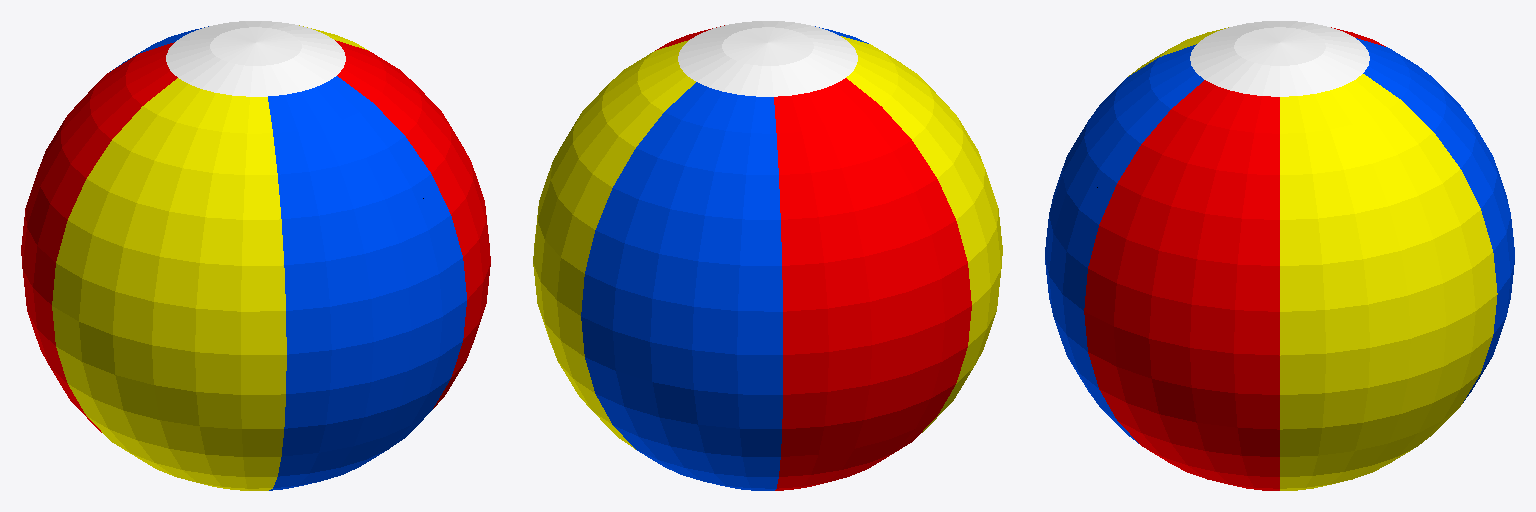
3 renders of one model, left to right at view 1: azimuth 30°, elevation 25°; view 2: azimuth 150°, elevation 25°; view 3: azimuth 270°, elevation 25°, orthographic.
Visible parts, largest first — view 1: Sphere; view 2: Sphere; view 3: Sphere.
Part boxes in pixels (x1,y1,x2,y2): Sphere: (21, 21, 490, 490); Sphere: (533, 21, 1002, 490); Sphere: (1045, 21, 1514, 490).
Size of the model in its own units: 2 by 2 by 2.
1 materials, 1 textured.